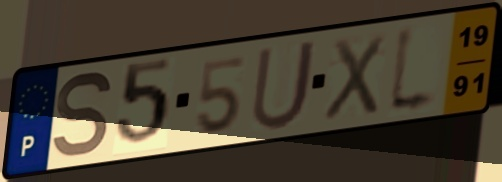5: (113, 55, 175, 153), (192, 53, 248, 137)
L: (384, 20, 441, 119)
S: (51, 68, 116, 160)
U: (247, 36, 320, 133)
X: (320, 30, 388, 125)
